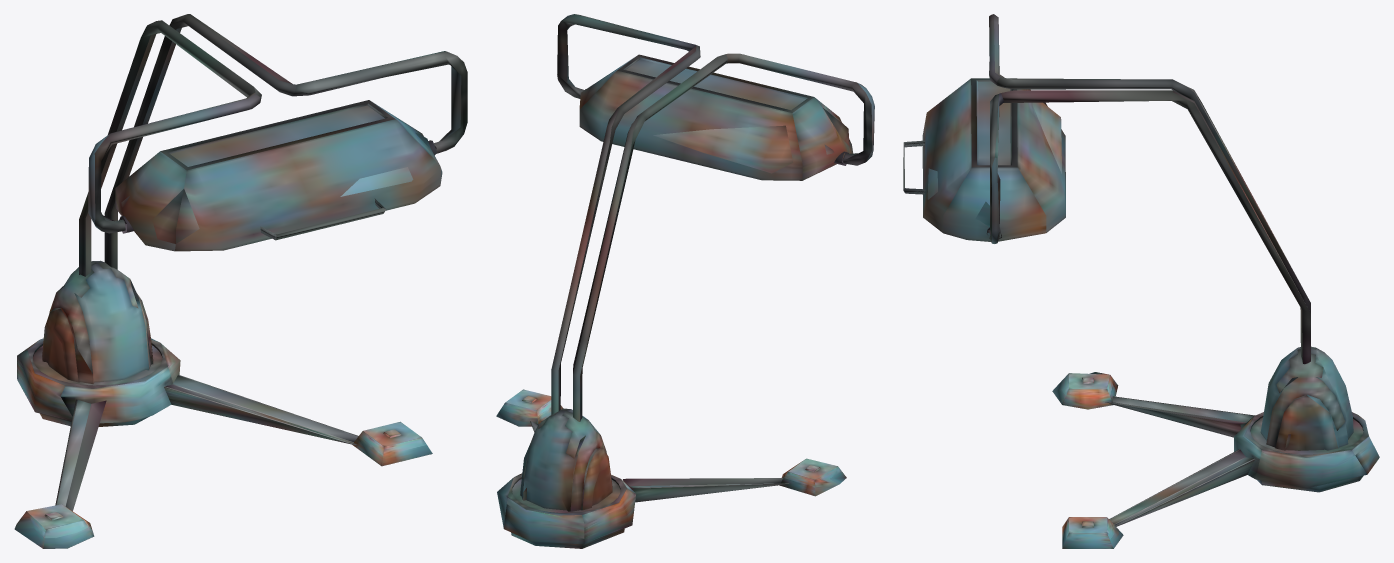
The model's file is deco-table-lamp.gltf.
The picture shows the model from 3 angles, left to right: view 1: azimuth 30°, elevation 25°; view 2: azimuth 150°, elevation 25°; view 3: azimuth 270°, elevation 25°; orthographic projection. The views are drawn at different scales.
Parts seen in each view (by area): view 1: Sketchfab_model; view 2: Sketchfab_model; view 3: Sketchfab_model.
Boxes of the visible parts, x1,y1,x2,y2 form: Sketchfab_model: [14, 14, 467, 548]; Sketchfab_model: [496, 14, 874, 548]; Sketchfab_model: [903, 14, 1379, 548].
Size of the model in its own units: 0.4774 by 0.5 by 0.566.
1 material, 1 textured.
